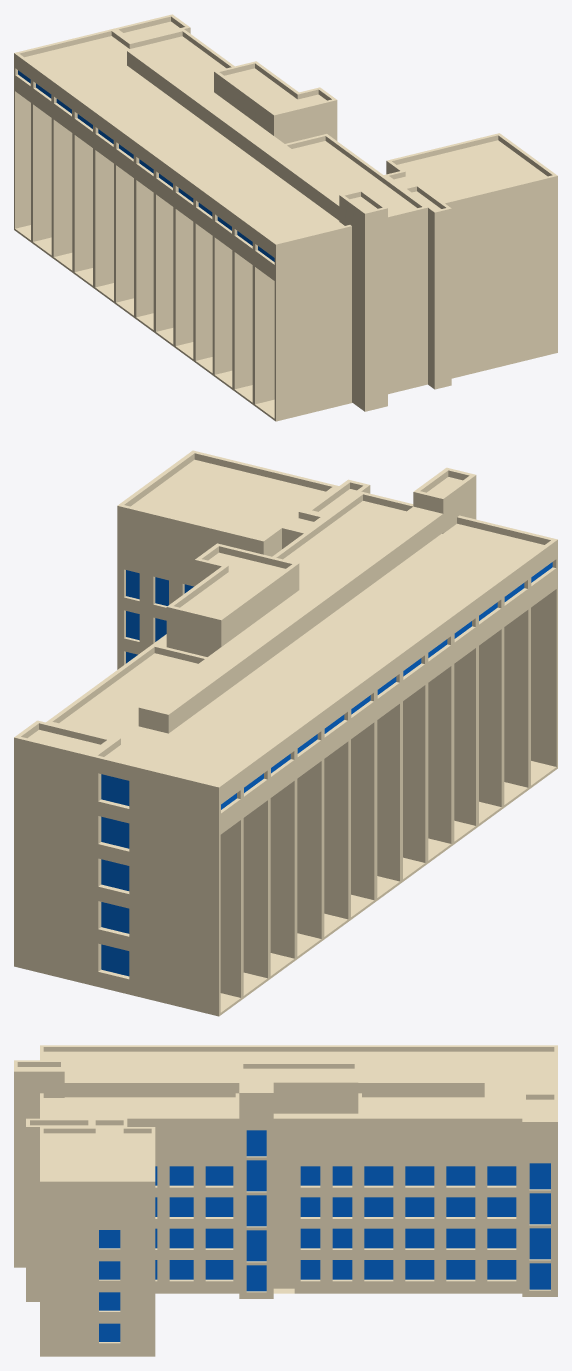
File: 국제문화관.fbx
The picture shows the model from 3 angles, top to bottom: view 1: azimuth 30°, elevation 25°; view 2: azimuth 150°, elevation 25°; view 3: azimuth 270°, elevation 25°; orthographic projection. The views are drawn at different scales.
Visible parts, largest first — view 1: 국제문화관; view 2: 국제문화관; view 3: 국제문화관.
Boxes of the visible parts, left/top/right/bottom form: 국제문화관: left=14, top=14, right=557, bottom=421; 국제문화관: left=14, top=450, right=557, bottom=1016; 국제문화관: left=14, top=1045, right=557, bottom=1356.
Bounding box in the file's own units: 599 × 422 × 1010.
